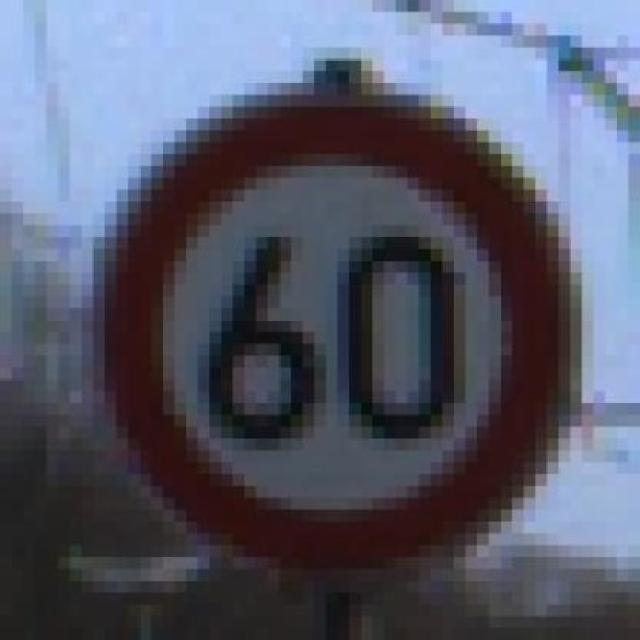forb_speed_over_60: (106, 98, 563, 558)
